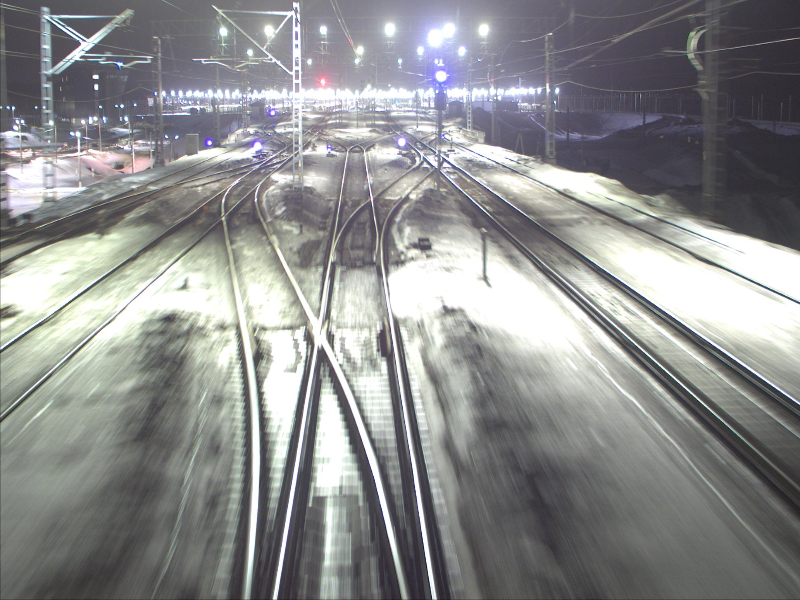right: (331, 195, 384, 263)
